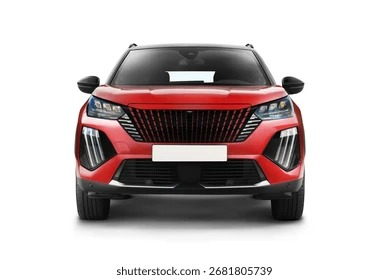car: (65, 41, 306, 229), (60, 52, 310, 226)
